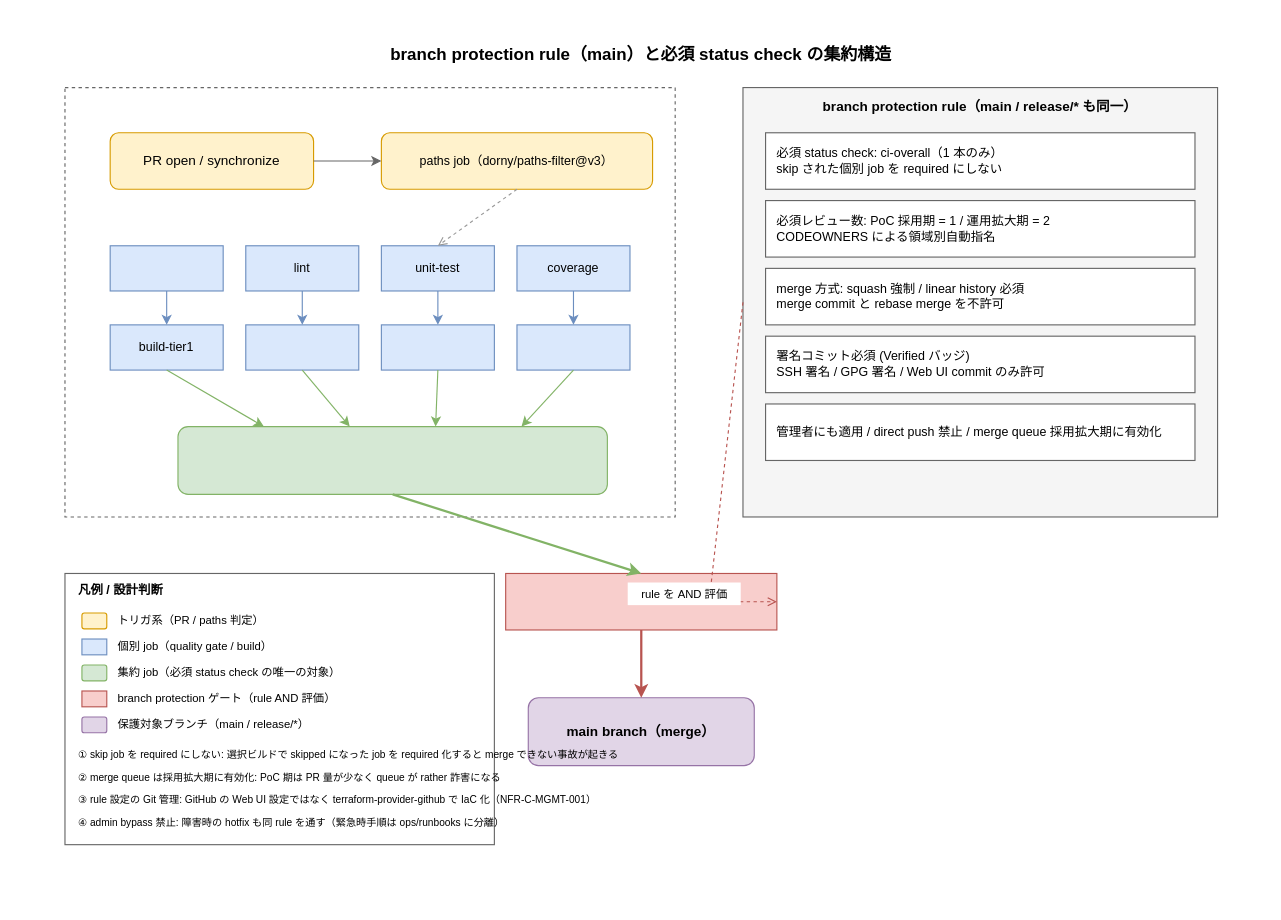
This 1281x920 diagram has some shape labels left out. The shapes that lost their labels are listed below. From the top down, each one's box as (x1, y1, x2, y2) in pixels, then its label:
(109, 245, 223, 291): fmt
(64, 86, 675, 517): GitHub Actions（CI）
(245, 324, 359, 370): build-tier2
(380, 324, 494, 370): build-tier3
(516, 324, 630, 370): build-sdk
(177, 425, 607, 494): ci-overall（集約 job, if: always） needs: 全前段 / result == success || skipped
(505, 572, 777, 630): branch protection 評価 （rule 1〜5 を AND 条件）
